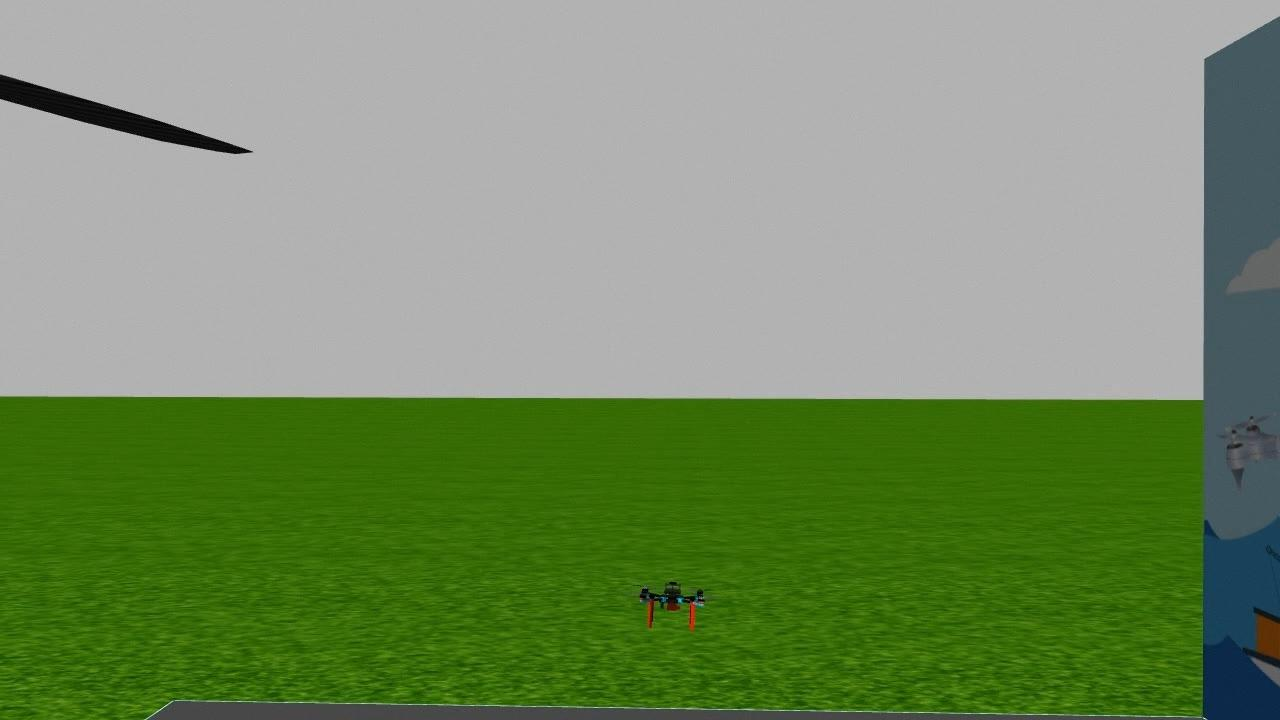UAV: (626, 571, 716, 631)
